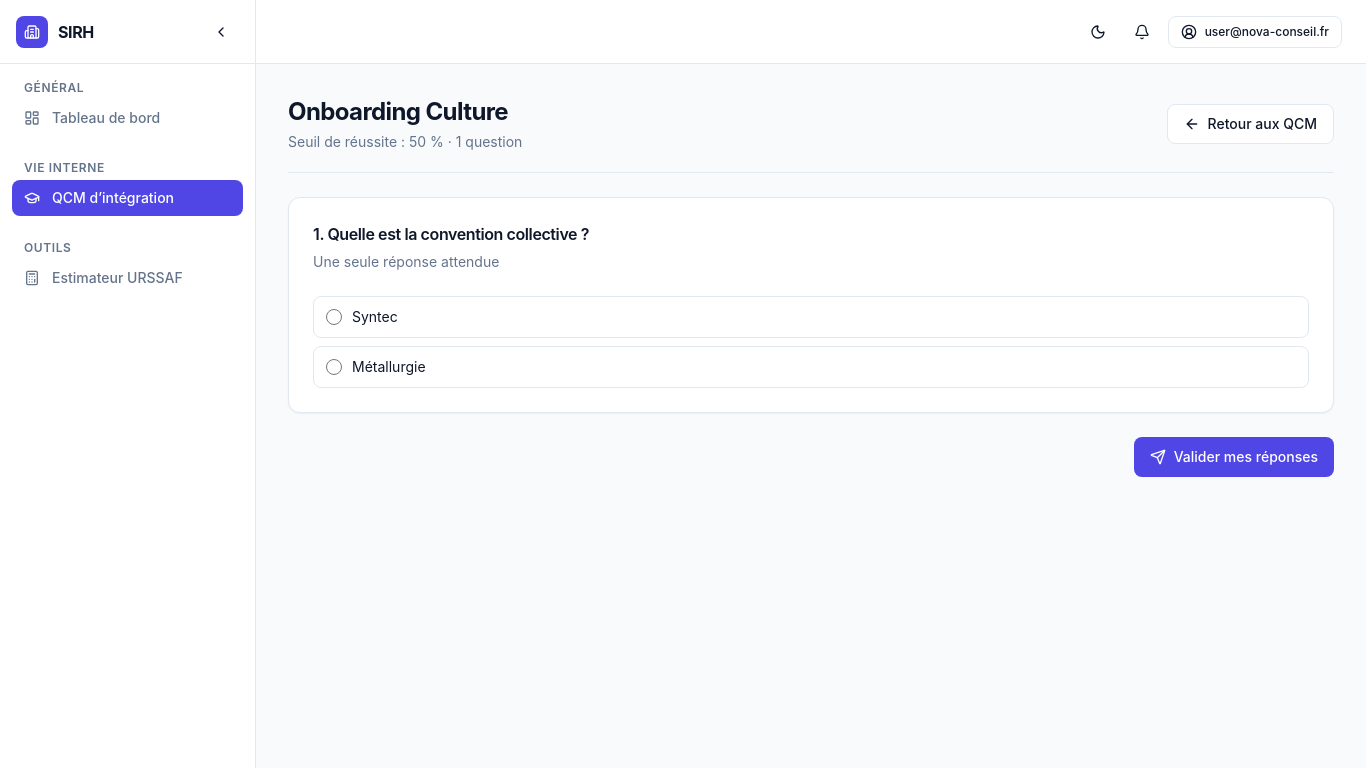
Test: OnboardingQuizzesFlows › starts an attempt, submits answers, and displays server score and explanations
The image size is (1366, 768).
Expected: the heading "1. Quelle est la convention collective ?" is shown, [313, 224, 589, 244]
Click the radio button labelled "Syntec".
click(334, 317)  # box [326, 309, 342, 325]
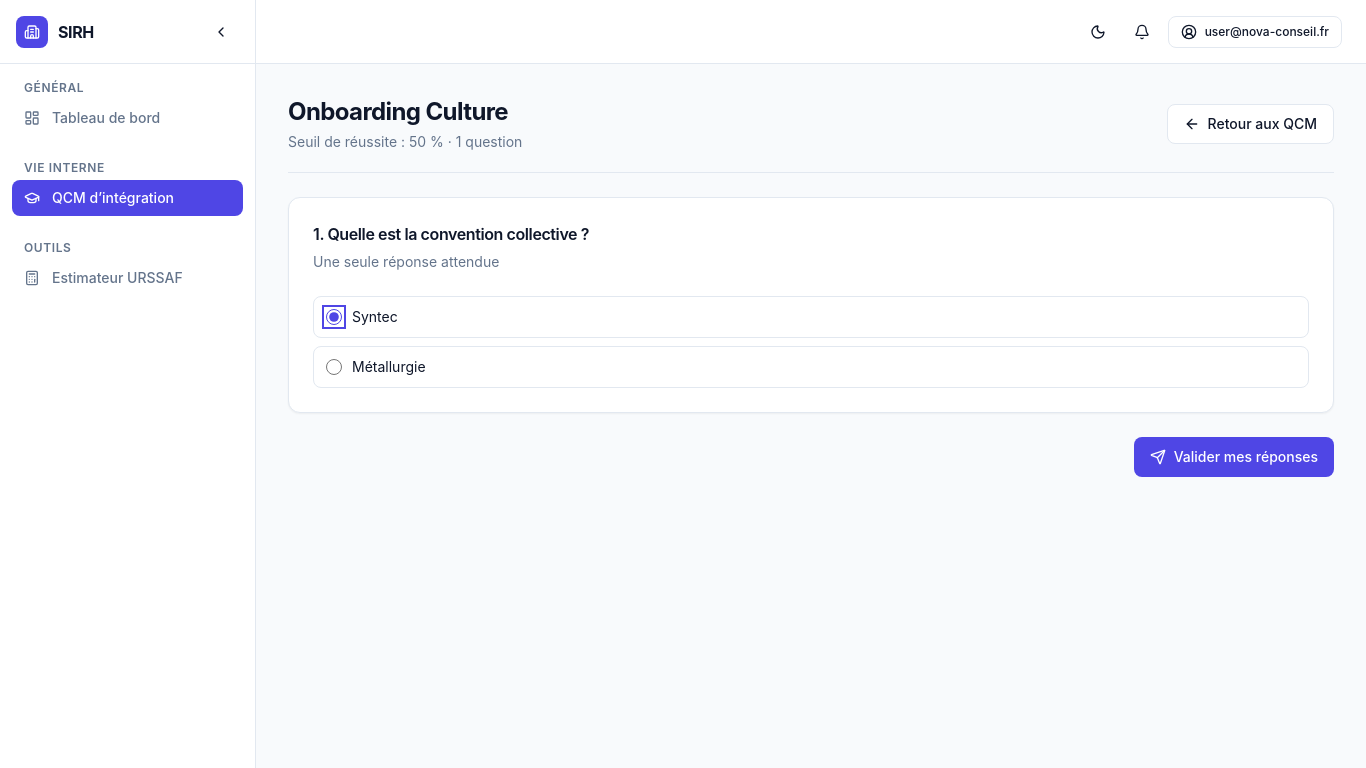
Click the button "Valider mes réponses".
click(1234, 457)  # box [1134, 437, 1334, 477]
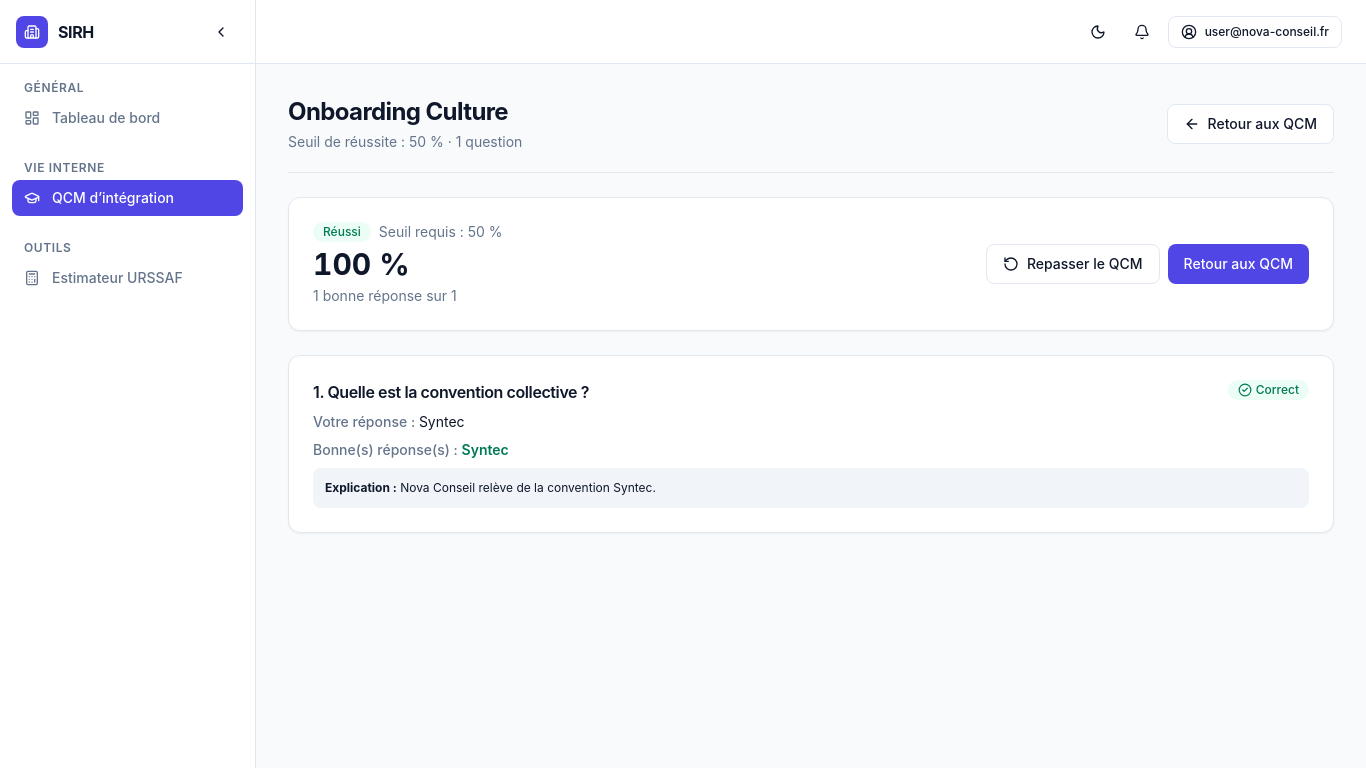
Expected: the text "100 %" is shown, [313, 246, 410, 282]
Expected: the text "Réussi" is shown, [313, 222, 371, 242]
Expected: the text "Explication : Nova Conseil relève de la convention Syntec." is shown, [313, 468, 1309, 508]
